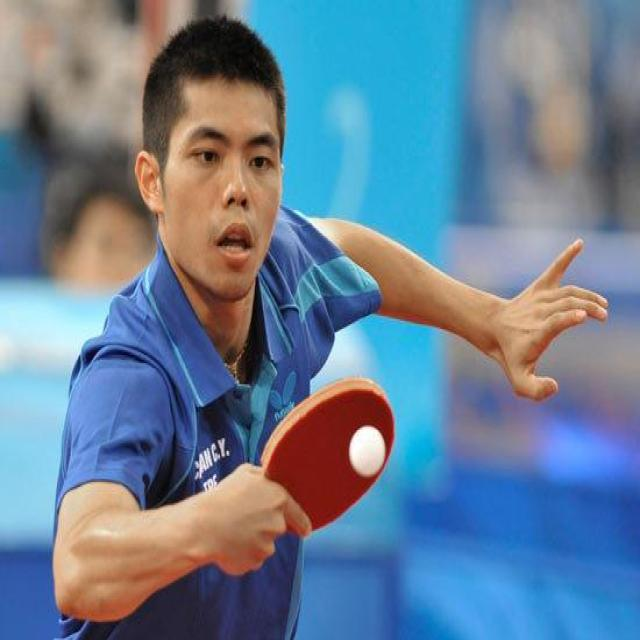ping-pong-ball: (348, 423, 388, 478)
